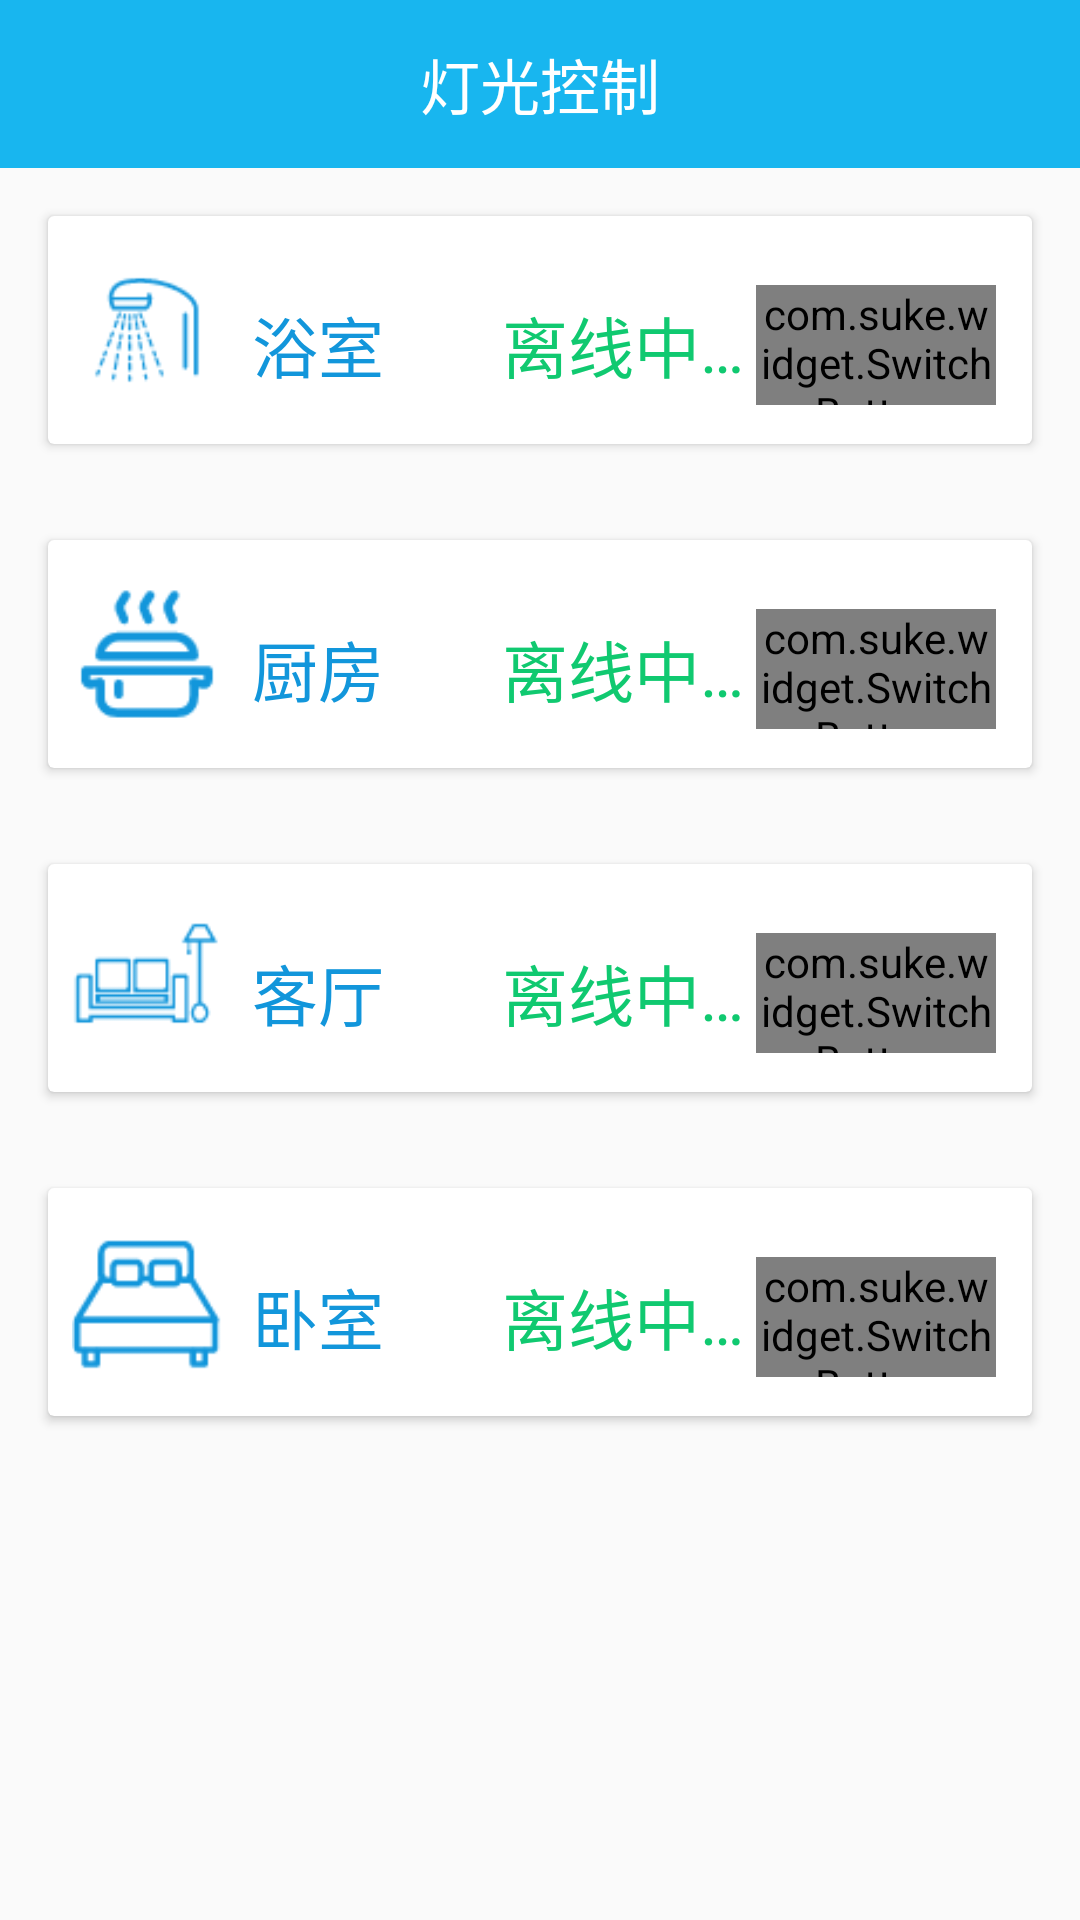

Icons on this 1080×1920 Android screen, each with its box as (x1, y1, x2, y2):
bash room: (95, 278, 199, 382)
